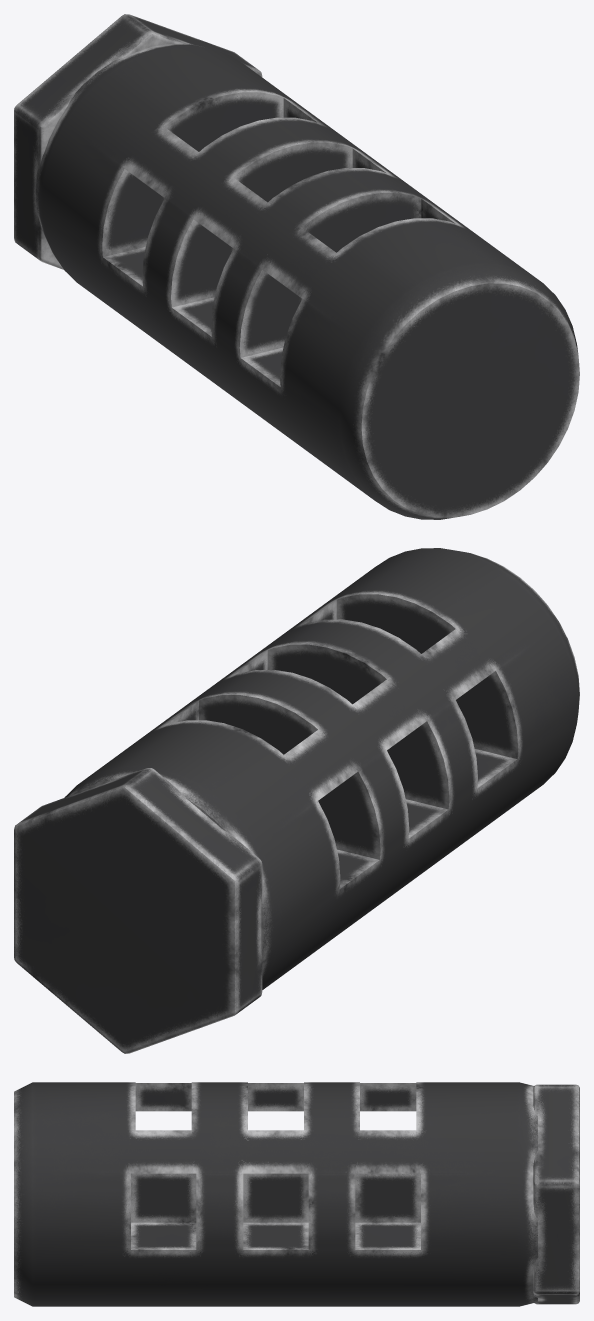
File: compensator.glb
3 views of the same model, one above another, from view 1: azimuth 30°, elevation 25°; view 2: azimuth 150°, elevation 25°; view 3: azimuth 270°, elevation 25° (orthographic). The views are drawn at different scales.
Parts seen in each view (by area): view 1: body; view 2: body; view 3: body.
Boxes of the visible parts, x1=… form: body: x1=14, y1=14, x2=579, y2=519; body: x1=14, y1=548, x2=579, y2=1053; body: x1=14, y1=1082, x2=579, y2=1306.
Bounding box in the file's own units: 0.024 × 0.0258 × 0.0605.
Materials: 1 (1 with a texture image).
